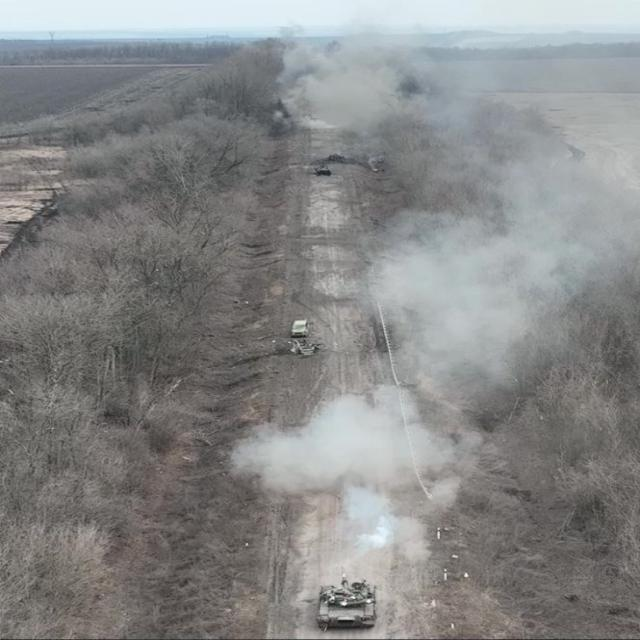AIFV: (316, 163, 333, 178)
Destroyed: (330, 154, 346, 163)
MBT: (317, 563, 380, 633)
Vehicle: (292, 319, 311, 339)
